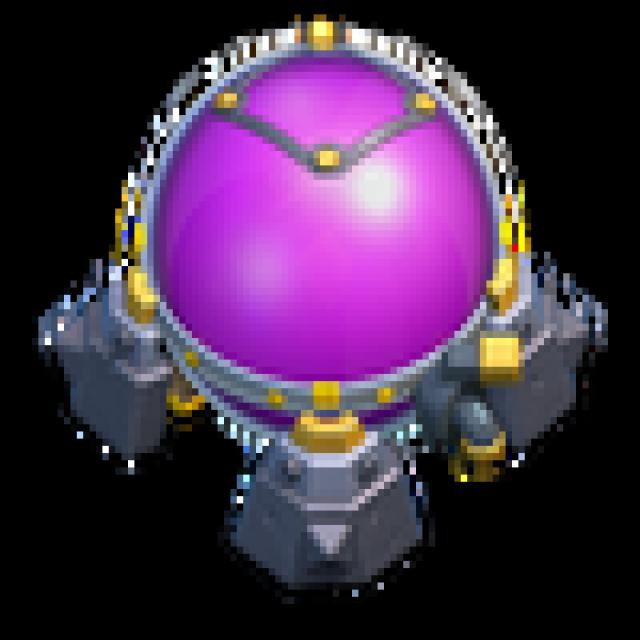elixir_storage: (27, 8, 604, 615)
